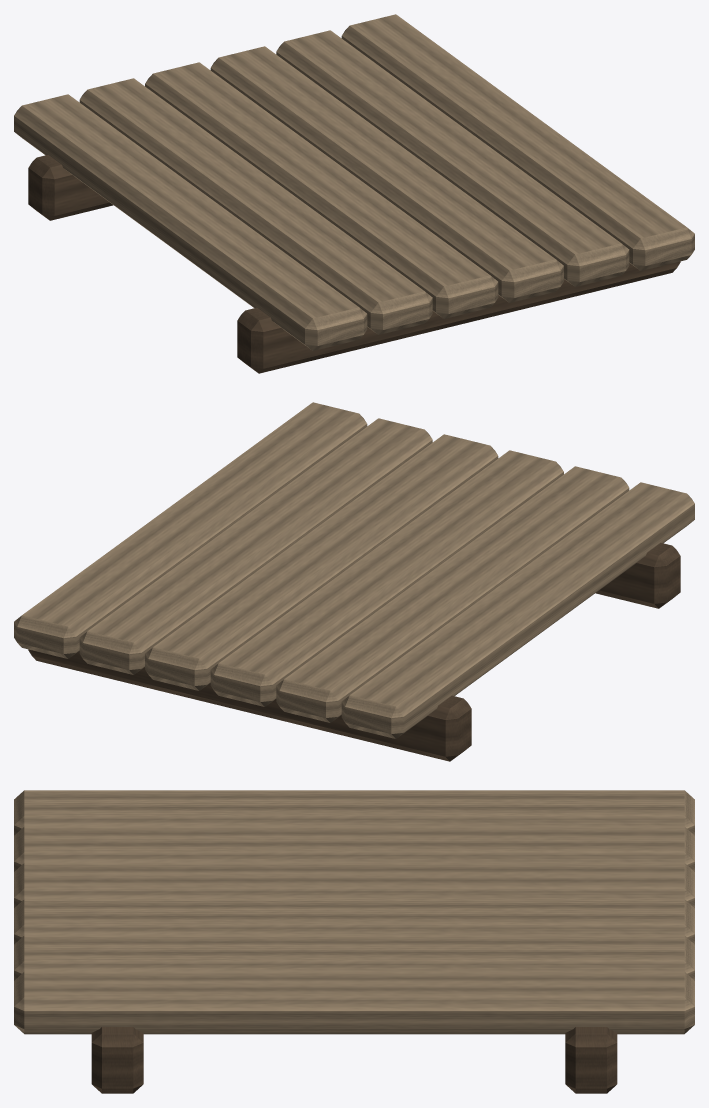
Rendered from trench_bridge.glb.
3 views of the same model, one above another, from view 1: azimuth 30°, elevation 25°; view 2: azimuth 150°, elevation 25°; view 3: azimuth 270°, elevation 25° (orthographic). The views are drawn at different scales.
Visible parts, largest first — view 1: trench_bridge__Timber_worn_edges, trench_bridge__Dark_endgrain; view 2: trench_bridge__Timber_worn_edges, trench_bridge__Dark_endgrain; view 3: trench_bridge__Timber_worn_edges, trench_bridge__Dark_endgrain.
Part boxes in pixels (left/top/right/bottom): trench_bridge__Timber_worn_edges: left=14, top=14, right=694, bottom=350; trench_bridge__Dark_endgrain: left=28, top=155, right=680, bottom=373; trench_bridge__Timber_worn_edges: left=14, top=402, right=694, bottom=738; trench_bridge__Dark_endgrain: left=28, top=543, right=680, bottom=761; trench_bridge__Timber_worn_edges: left=14, top=790, right=694, bottom=1034; trench_bridge__Dark_endgrain: left=91, top=1027, right=617, bottom=1093.
Bounding box in the file's own units: 0.76 × 0.1275 × 0.92.
Materials: 2 (2 with a texture image).
